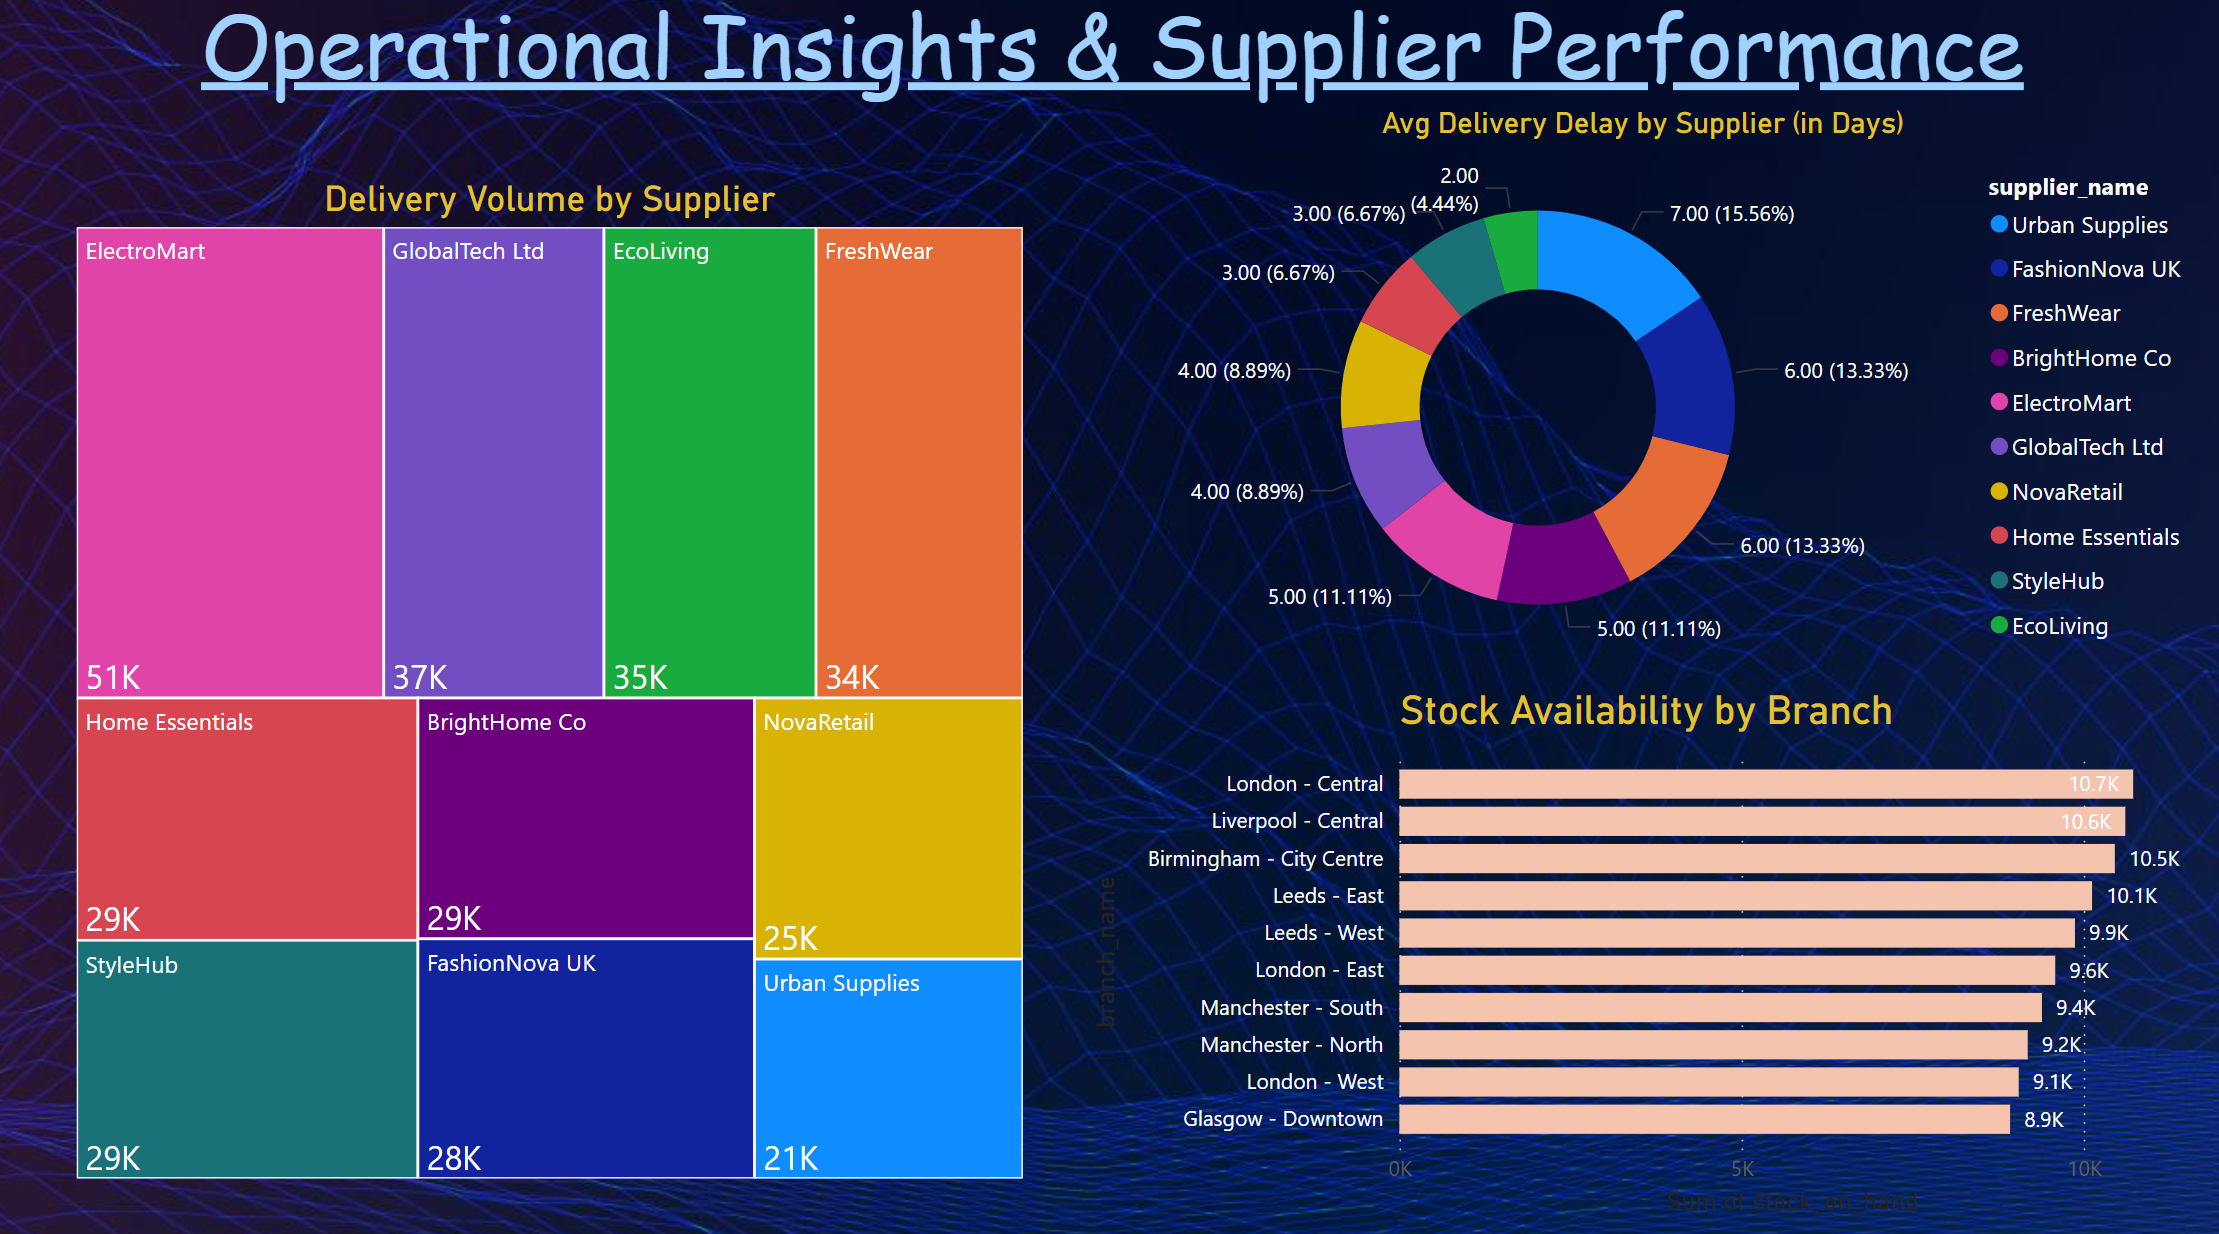

What the dashboard file says about the page in this screenshot:
{"tool":"powerbi","page":{"name":"Page 2","canvas":[1280,720],"ordinal":1},"visuals":[{"type":"textbox","title":"Operational Insights & Supplier Performance","box":[48,0,1188,70],"z":0},{"type":"treemap","title":"Delivery Volume by Supplier","fields":{"Values":["Sum(deliveries.quantity_delivered)"],"Group":["suppliers.supplier_name"]},"box":[48,112,548,574],"z":1000},{"type":"donutChart","title":"Avg Delivery Delay by Supplier (in Days)","fields":{"Y":["Avg(suppliers.delivery_delay_avg)"],"Category":["suppliers.supplier_name"]},"box":[622,70,642,324],"z":2000},{"type":"clusteredBarChart","title":"Stock Availability by Branch","fields":{"Category":["branches.branch_name"],"Y":["Sum(inventory.stock_on_hand)"]},"box":[624,400,642,306],"z":3000}]}

Visuals, with their boxes in screenshot pixels (x1, y1, x2, y2), scaled from the page's 1280x720 canvas onto the 2219x1234 screenshot:
"Operational Insights & Supplier Performance" textbox: <region>83, 0, 2143, 120</region>
"Delivery Volume by Supplier" treemap: <region>83, 192, 1033, 1176</region>
"Avg Delivery Delay by Supplier (in Days)" donutChart: <region>1078, 120, 2191, 675</region>
"Stock Availability by Branch" clusteredBarChart: <region>1082, 686, 2195, 1210</region>
